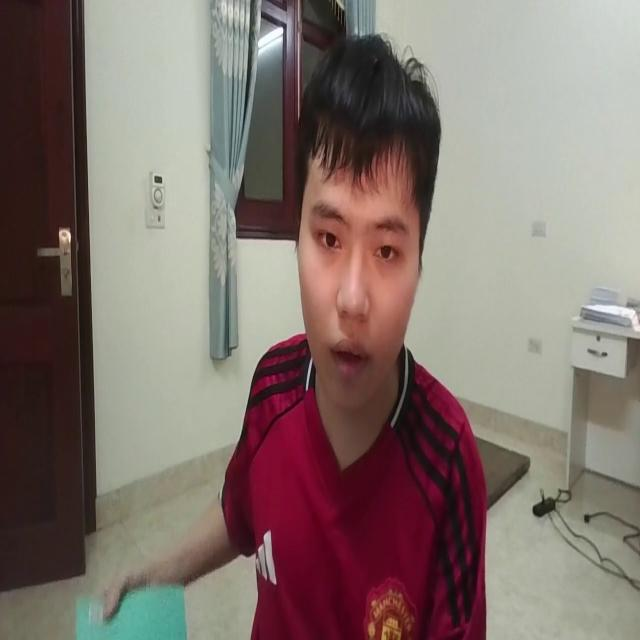book: (73, 584, 189, 640)
student: (106, 34, 494, 640)
